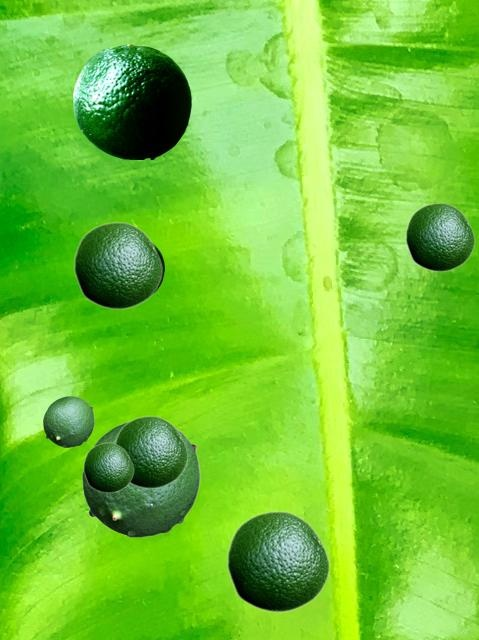calamansi: (82, 421, 199, 536), (73, 43, 190, 158), (226, 510, 329, 612), (73, 221, 162, 309), (114, 415, 187, 488), (405, 202, 474, 271), (83, 442, 133, 492), (43, 396, 93, 446), (154, 243, 163, 290)
